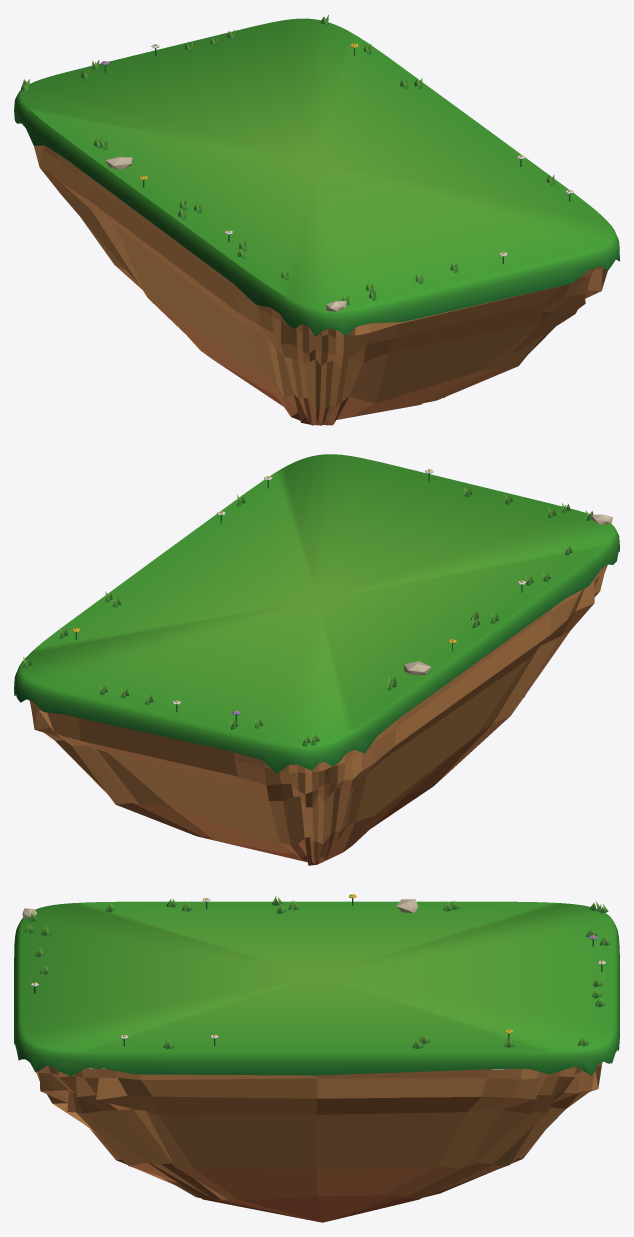
File: PLAT_Isle_L.glb
3 renders of one model, top to bottom at view 1: azimuth 30°, elevation 25°; view 2: azimuth 150°, elevation 25°; view 3: azimuth 270°, elevation 25°, orthographic. The views are drawn at different scales.
Parts seen in each view (by area): view 1: Ground; view 2: Ground; view 3: Ground.
Boxes of the visible parts, x1,y1,x2,y2 form: Ground: [14, 14, 619, 425]; Ground: [14, 454, 619, 865]; Ground: [14, 894, 619, 1222].
Bounding box in the file's own units: 6.14 × 4.82 × 10.24.
